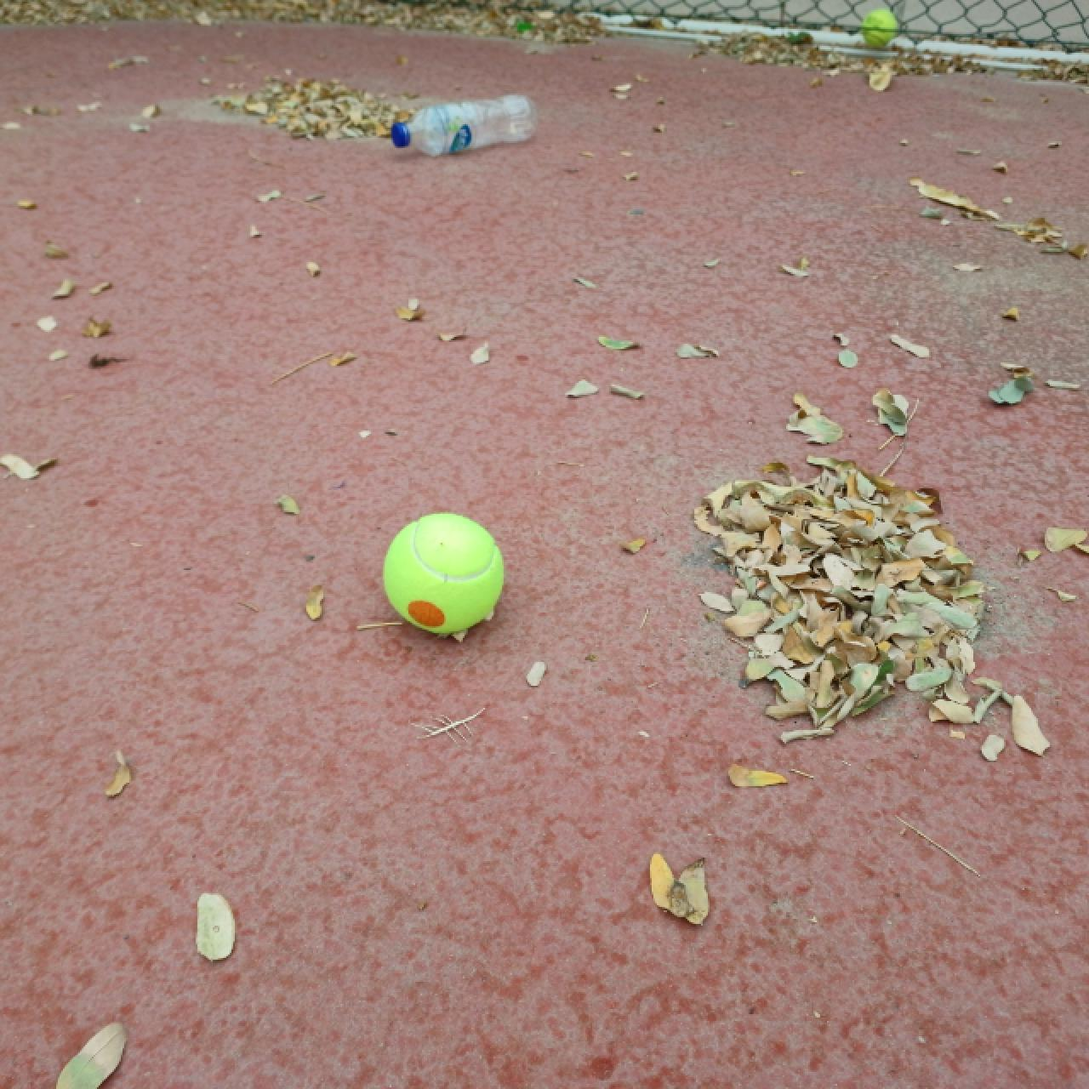tennis-ball: (383, 510, 507, 636), (861, 11, 897, 48)
